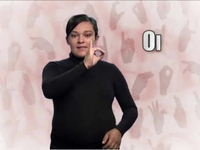oi: (84, 40, 105, 68)
